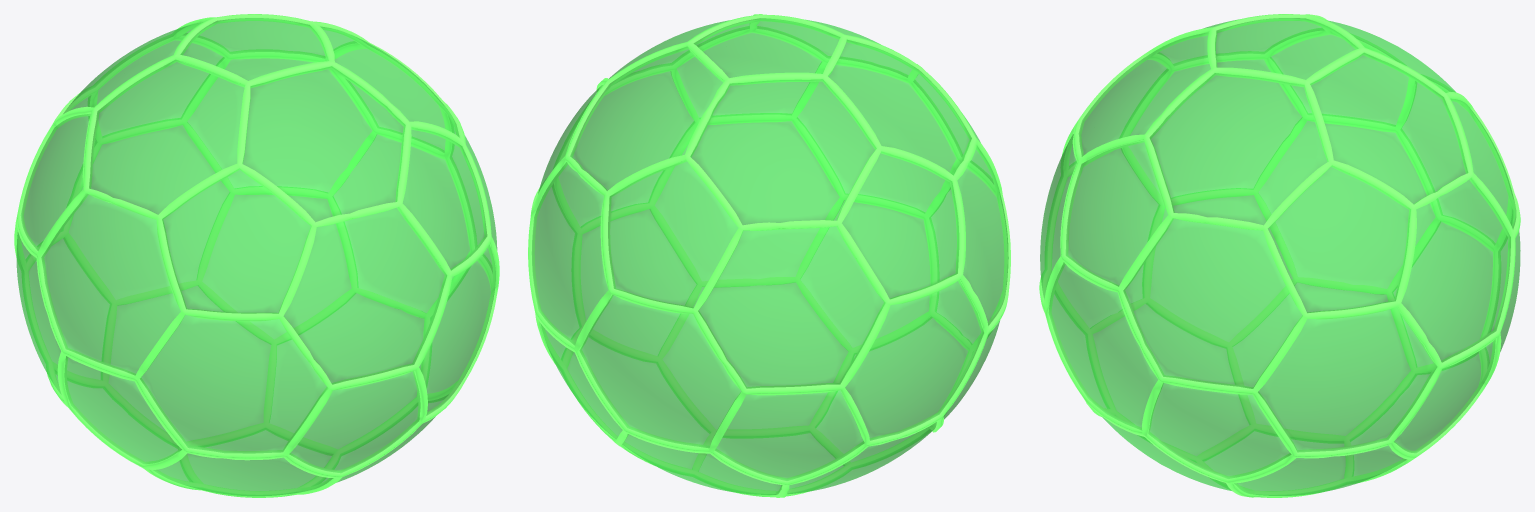
File: green_sphere.glb
3 views of the same model, side by side, from view 1: azimuth 30°, elevation 25°; view 2: azimuth 150°, elevation 25°; view 3: azimuth 270°, elevation 25° (orthographic).
Visible parts, largest first — view 1: Green-material, Mat-material; view 2: Green-material, Mat-material; view 3: Green-material, Mat-material.
Part boxes in pixels (left/top/right/bottom): Green-material: left=16, top=18, right=497, bottom=496; Mat-material: left=14, top=14, right=499, bottom=497; Green-material: left=531, top=18, right=1008, bottom=494; Mat-material: left=528, top=14, right=1010, bottom=497; Green-material: left=1040, top=18, right=1520, bottom=495; Mat-material: left=1039, top=14, right=1520, bottom=497.
Bounding box in the file's own units: 199 × 197 × 197.
